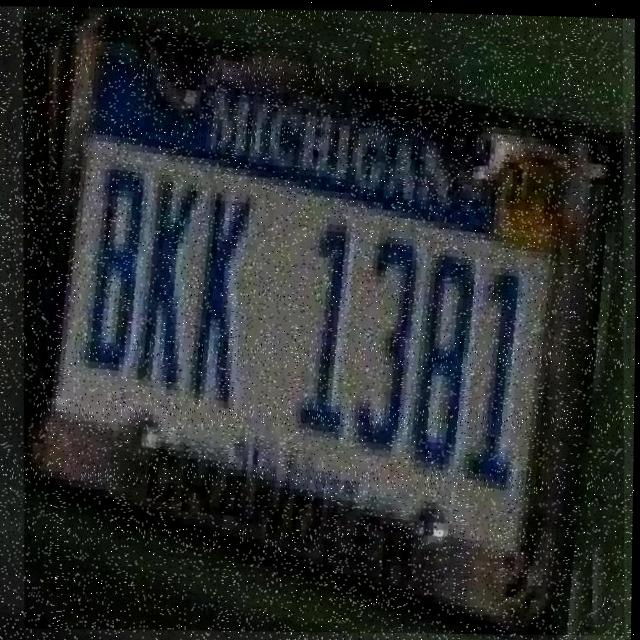LicensePlate: (15, 1, 633, 640)
